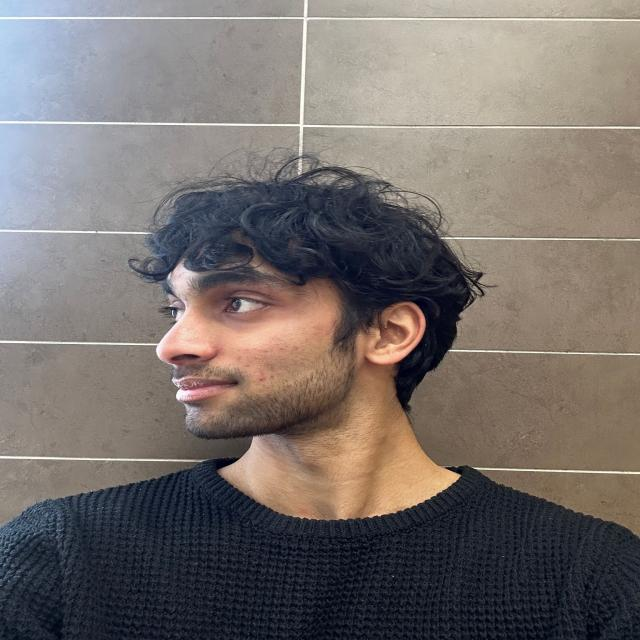nocap: (110, 155, 500, 316)
